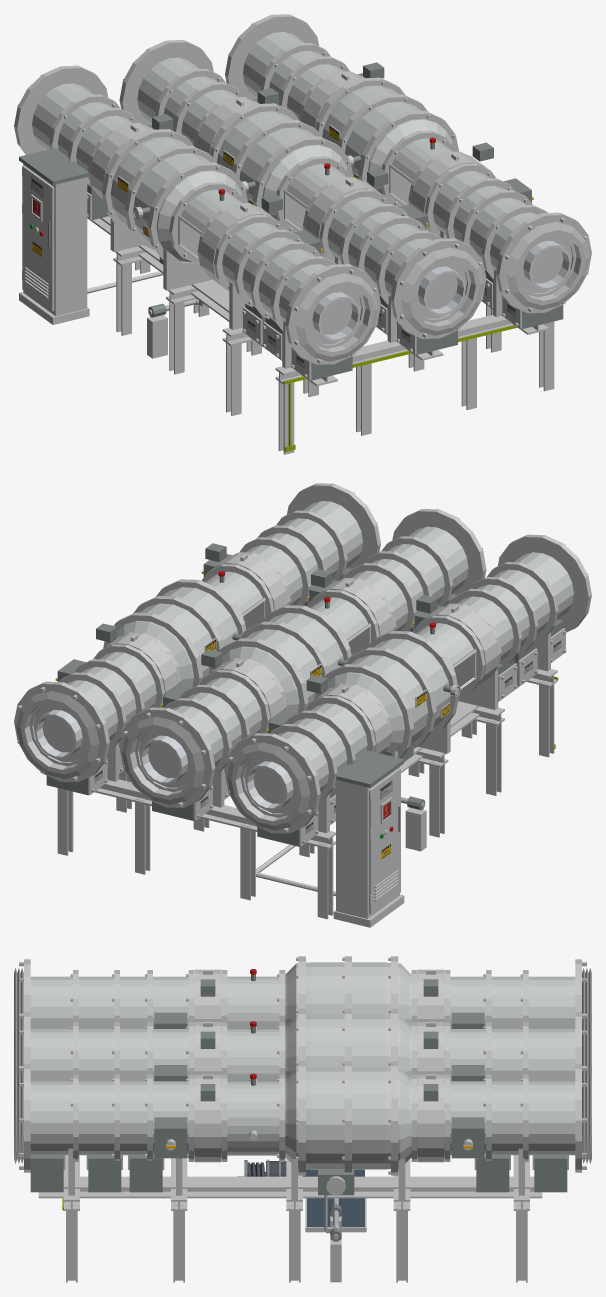
File: compact.obj
The picture shows the model from 3 angles, top to bottom: view 1: azimuth 30°, elevation 25°; view 2: azimuth 150°, elevation 25°; view 3: azimuth 270°, elevation 25°; orthographic projection.
Size of the model in its own units: 0.621 by 0.3465 by 0.9.
